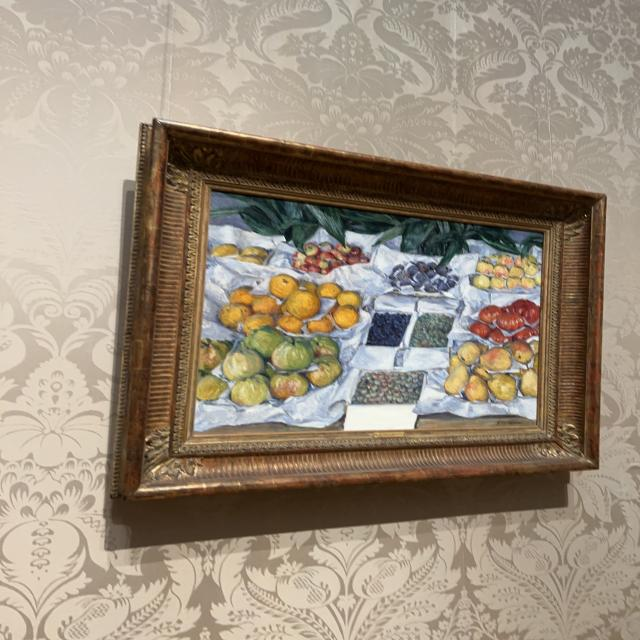fruits: (194, 191, 544, 433)
